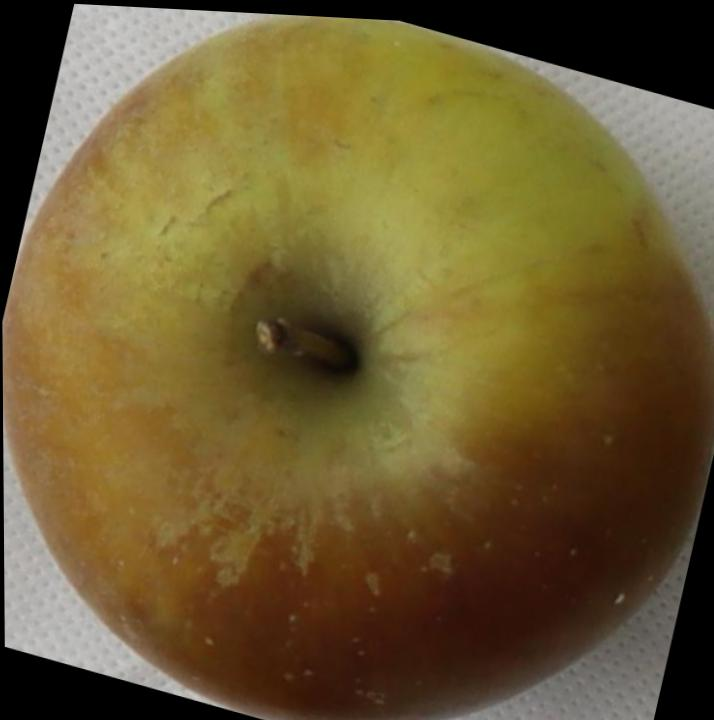apple: (2, 15, 714, 720)
rot_mold_decay: (3, 261, 714, 720)
